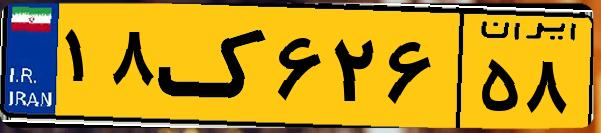1: (57, 26, 110, 100)
2: (330, 28, 385, 110)
5: (475, 38, 525, 113)
6: (270, 28, 330, 110), (385, 28, 445, 110)
8: (525, 38, 570, 115), (110, 28, 158, 98)
ک: (158, 12, 270, 120)
